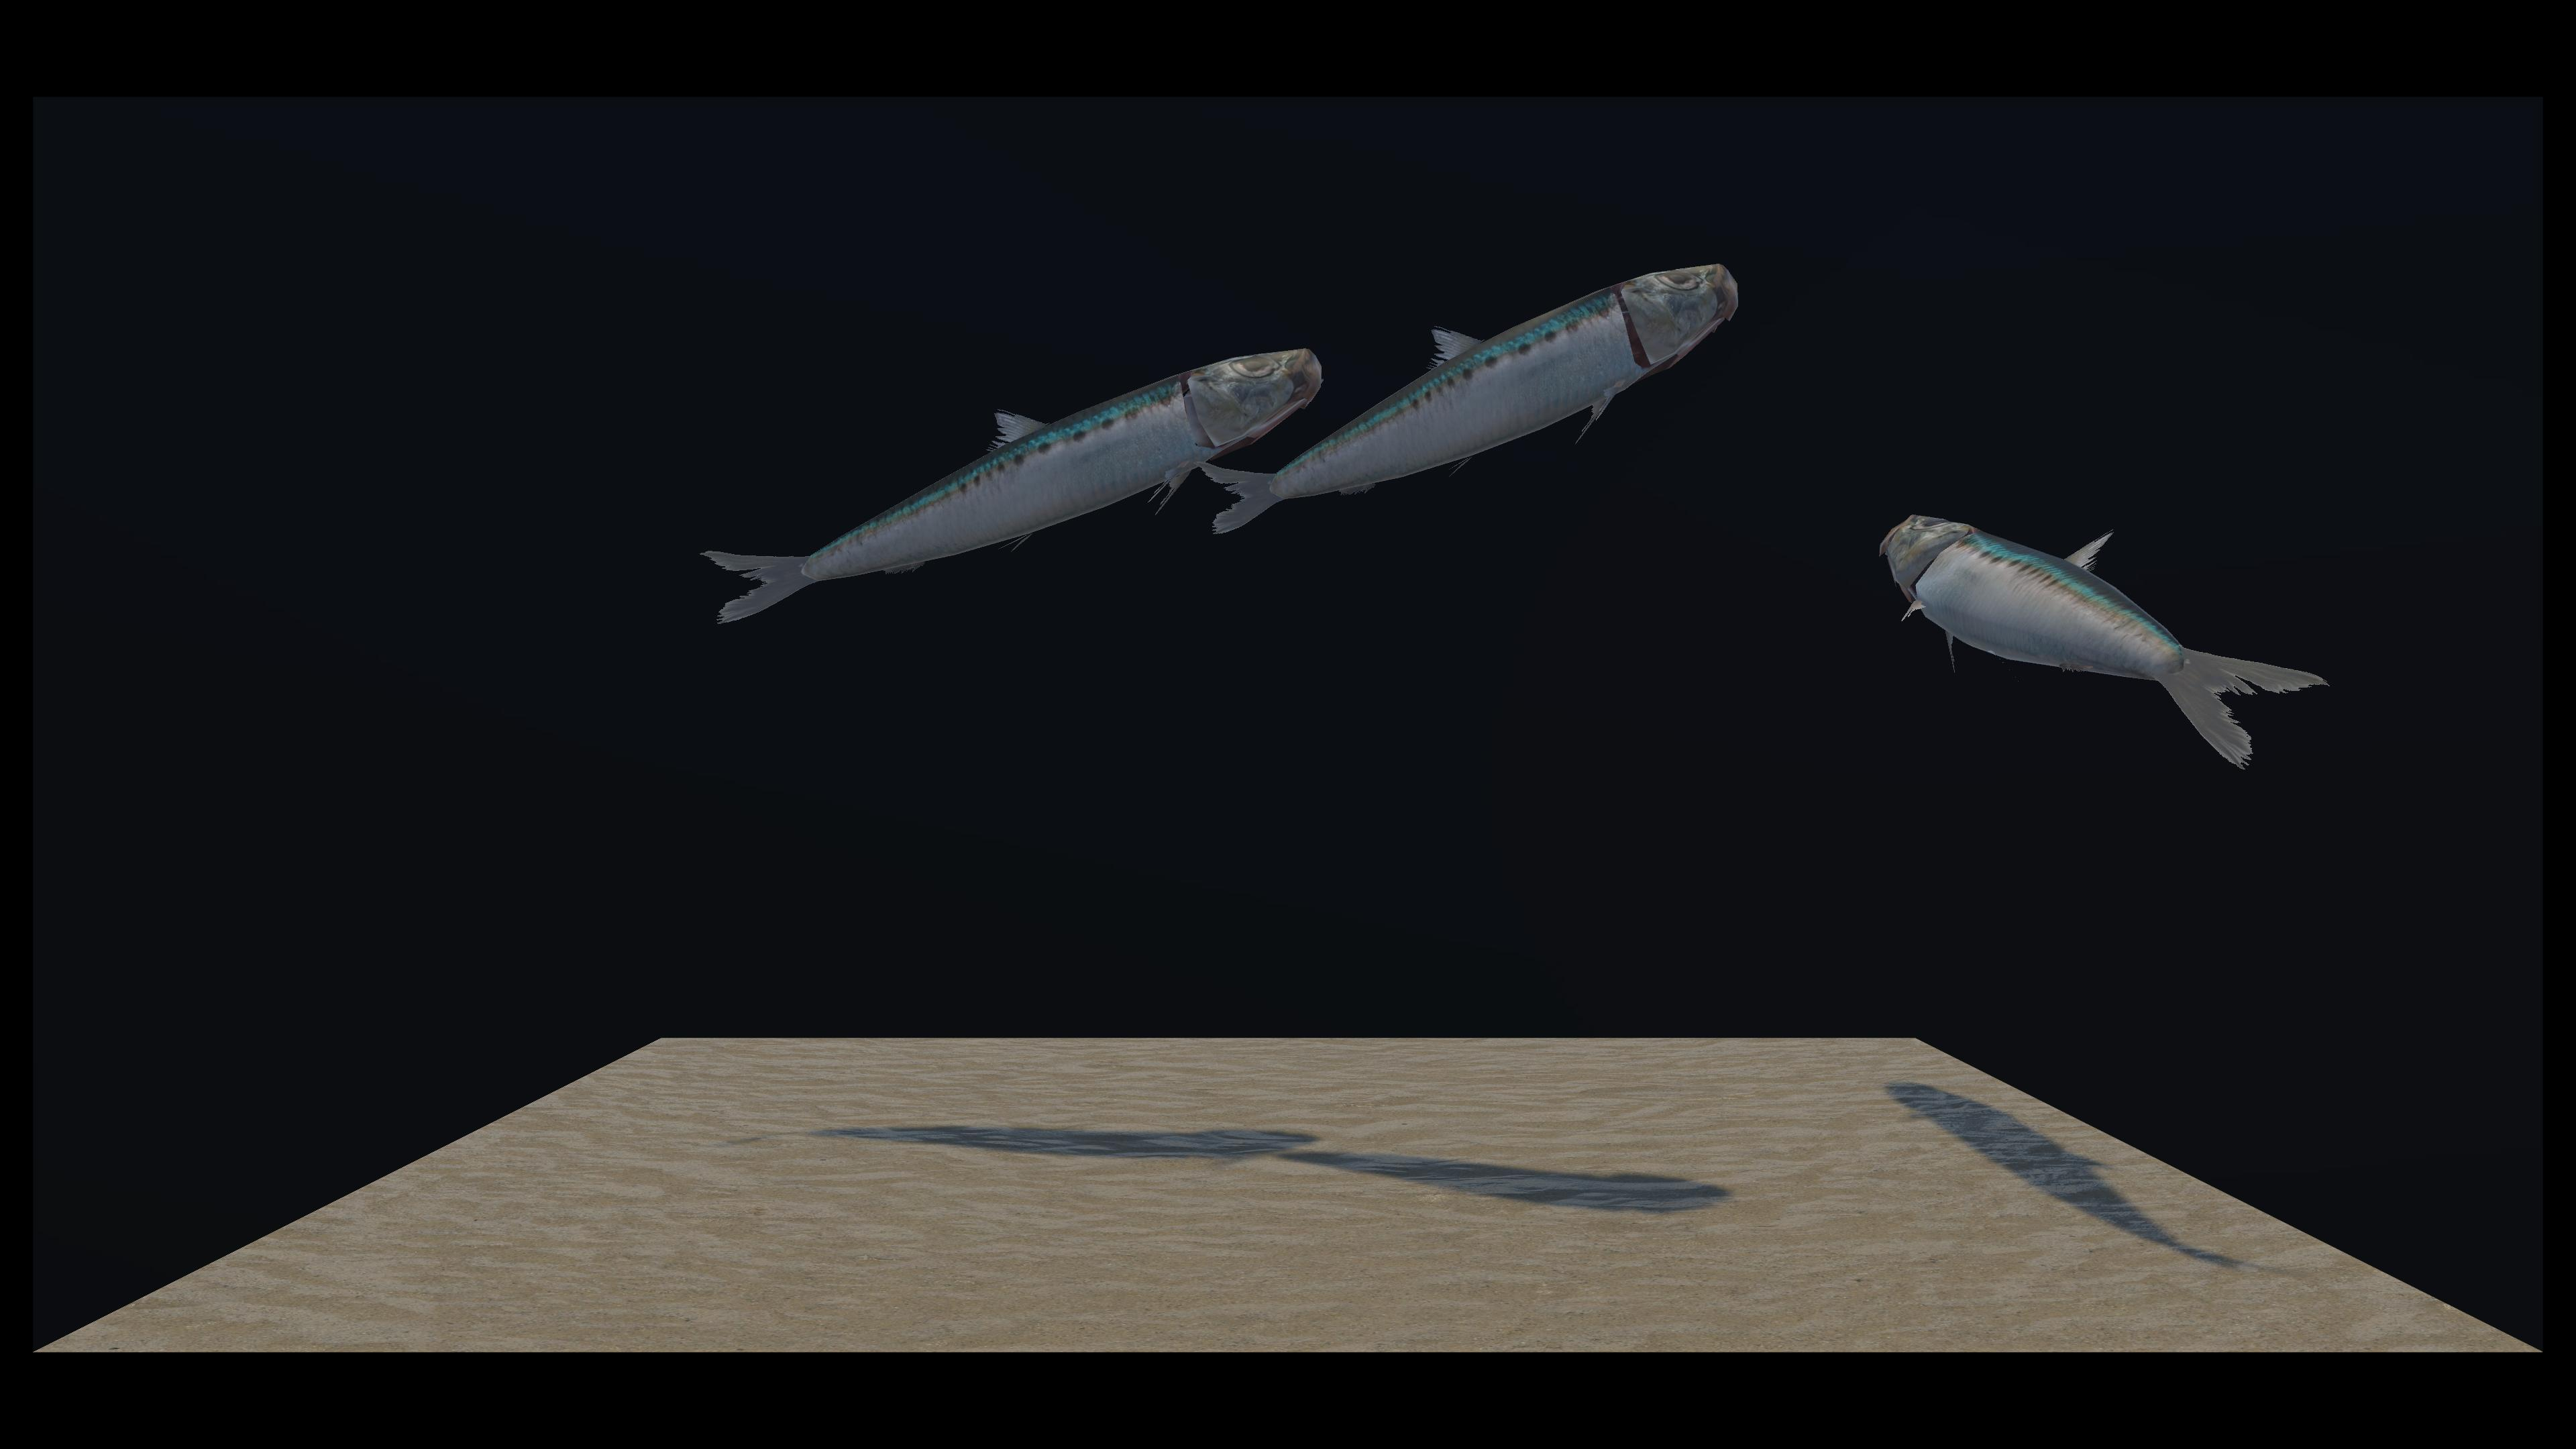Sardine_Front: (807, 520, 2316, 759), (752, 267, 1713, 538), (713, 350, 1302, 623)
